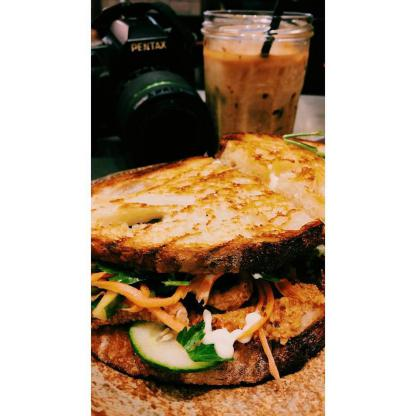Camera: (88, 8, 227, 171)
